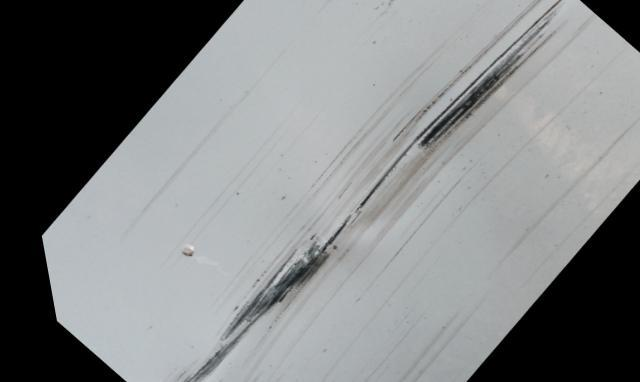scratch: (113, 0, 640, 382)
